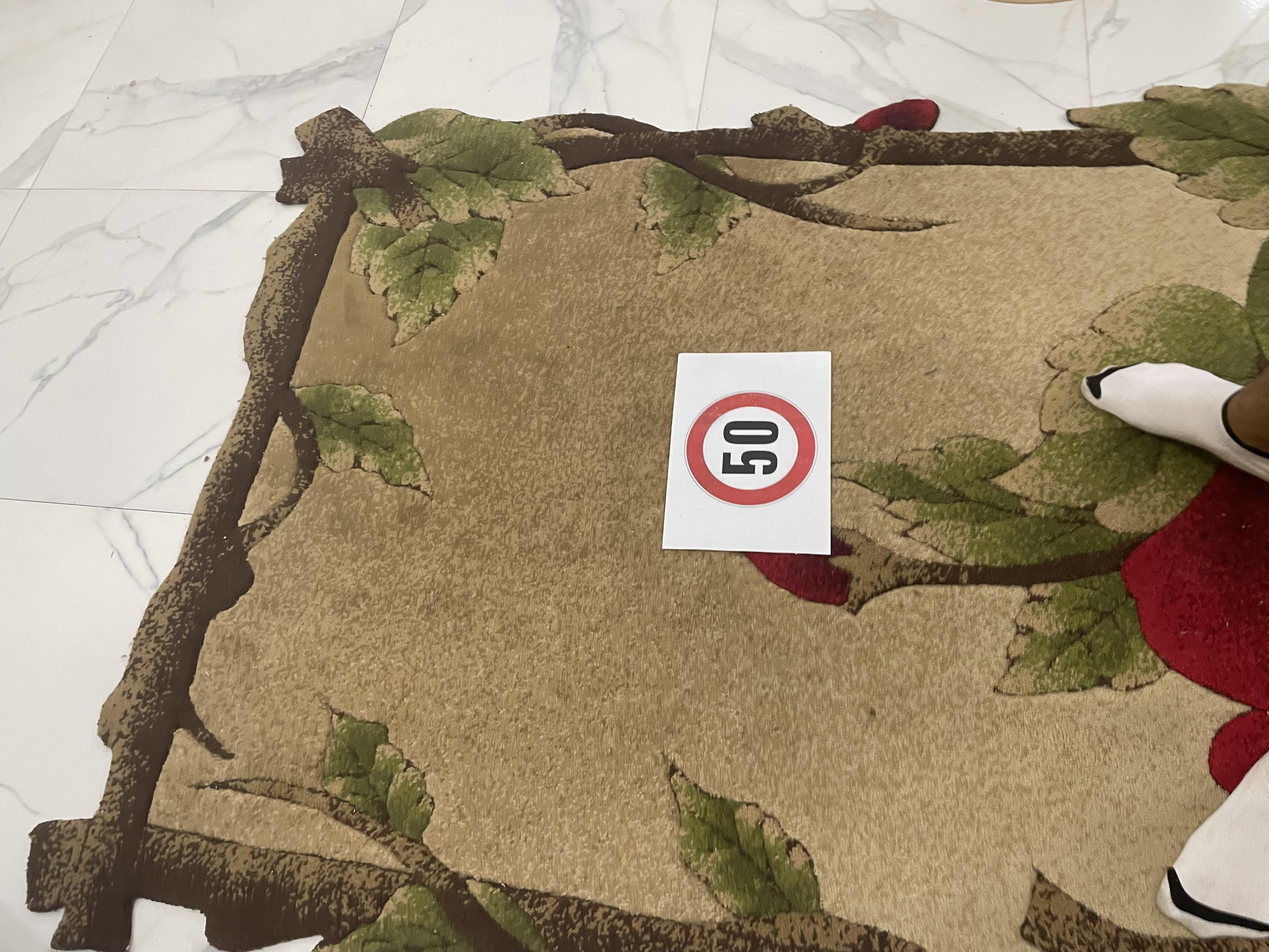50-Speed: (454, 436, 586, 561)
